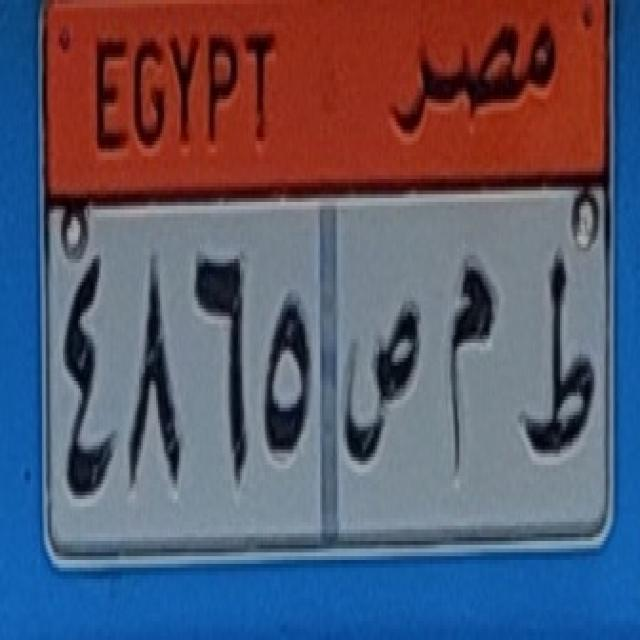4: (57, 251, 125, 501)
5: (256, 294, 321, 470)
6: (188, 258, 258, 493)
8: (122, 257, 198, 502)
Meem: (438, 251, 502, 485)
Saad: (338, 283, 431, 471)
Taa: (509, 250, 607, 468)
